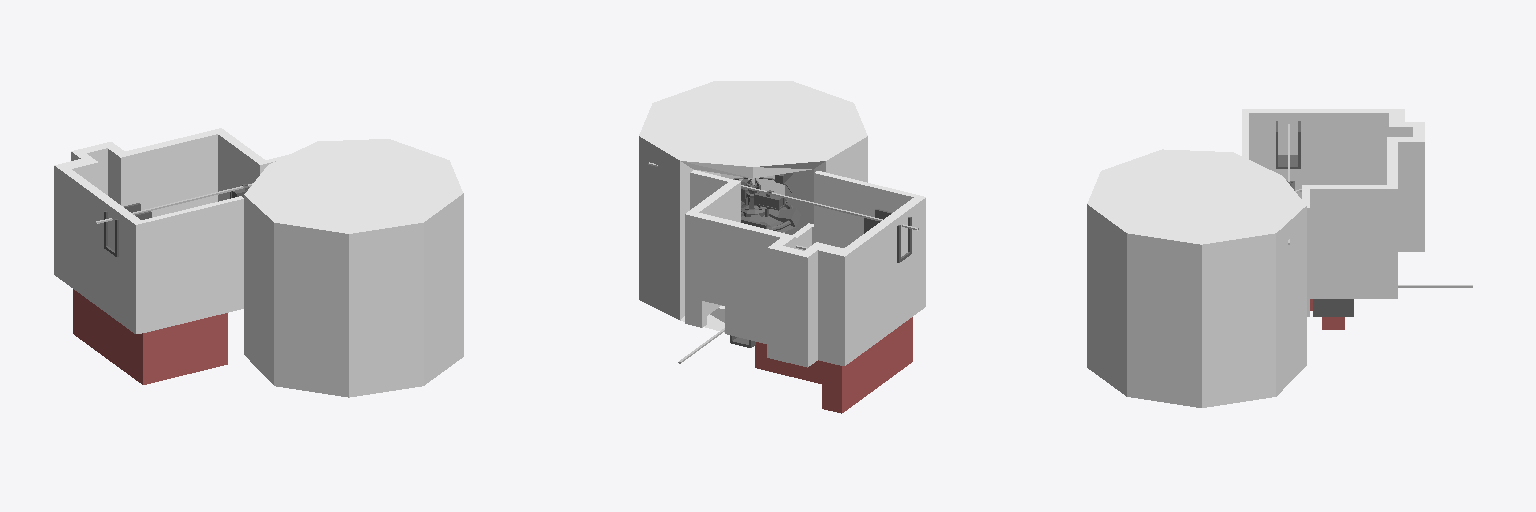
File: room.obj
3 views of the same model, side by side, from view 1: azimuth 30°, elevation 25°; view 2: azimuth 150°, elevation 25°; view 3: azimuth 270°, elevation 25° (orthographic).
Parts seen in each view (by area): view 1: reactor_room_wall, mainWall, platform_2, tram_door_4; view 2: mainWall, reactor_room_wall, platform_2, platform_1, reactor_room reactorRoom:pSphere1 reactorRoom:floorBase, tram_door_4; view 3: reactor_room_wall, mainWall, tram_door_2.
Part boxes in pixels (x1,y1,x2,y2): reactor_room_wall: (244, 139, 463, 397); mainWall: (54, 128, 289, 333); platform_2: (73, 289, 227, 384); tram_door_4: (104, 203, 151, 256); mainWall: (685, 170, 925, 367); reactor_room_wall: (639, 81, 867, 332); platform_2: (822, 317, 912, 413); platform_1: (755, 342, 821, 383); reactor_room reactorRoom:pSphere1 reactorRoom:floorBase: (741, 199, 800, 232); tram_door_4: (864, 209, 911, 262); reactor_room_wall: (1087, 149, 1306, 407); mainWall: (1242, 109, 1424, 316); tram_door_2: (1313, 299, 1353, 316).
Bounding box in the file's own units: 571 × 306 × 617.